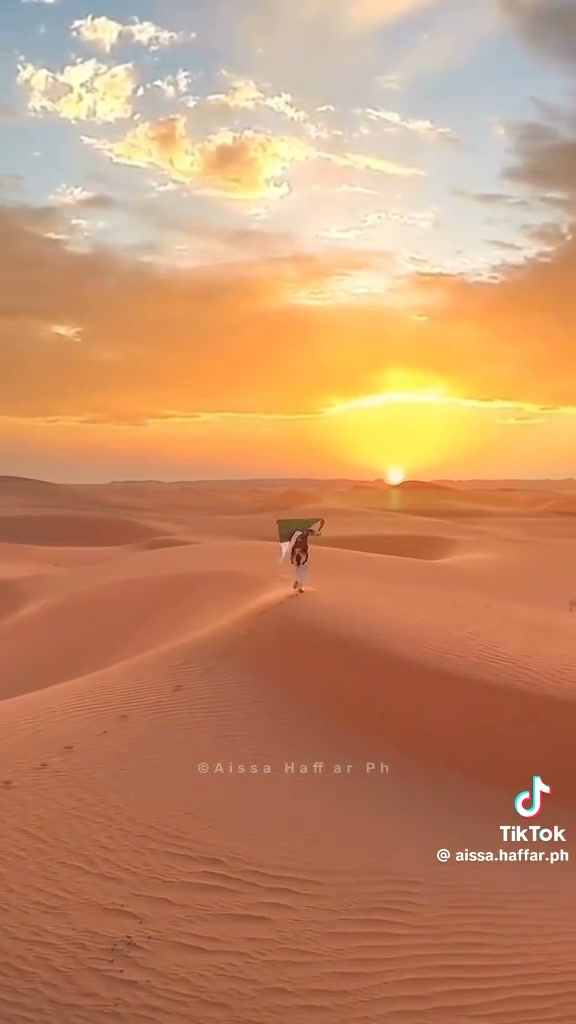human_foot_print: (57, 718, 88, 754), (102, 703, 138, 729), (28, 752, 60, 776), (0, 775, 17, 813), (165, 668, 181, 694)
